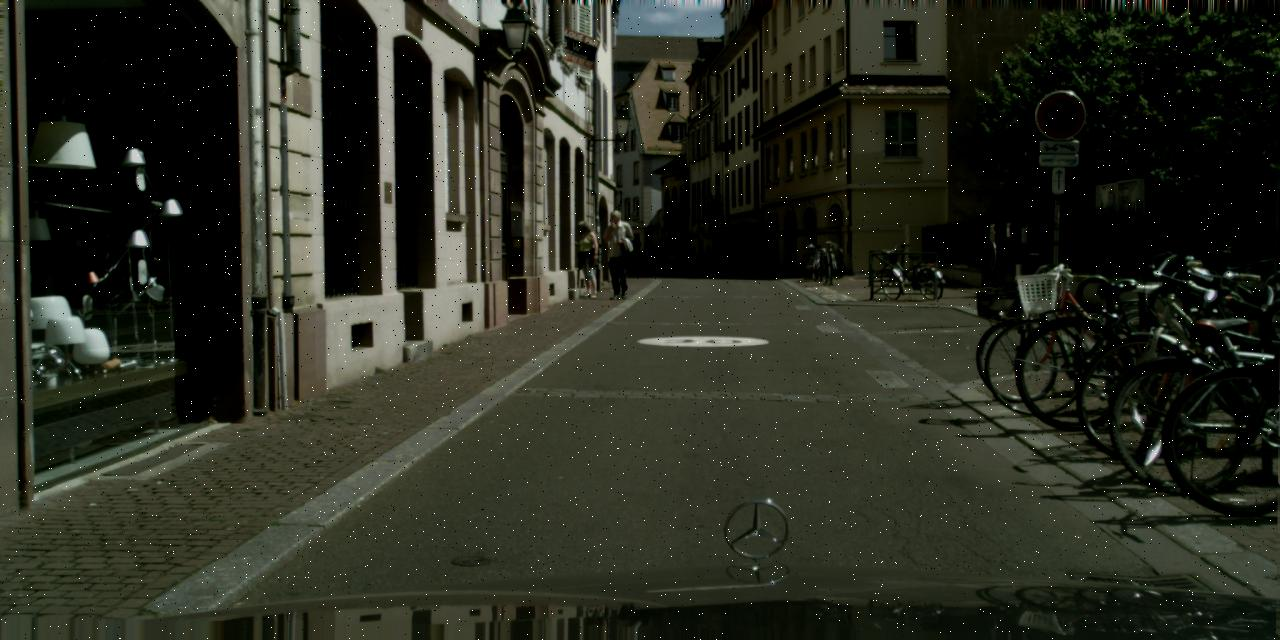ped: (600, 210, 636, 298), (569, 220, 600, 296)
